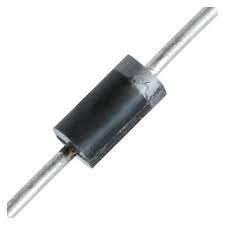diode: (34, 47, 178, 188)
